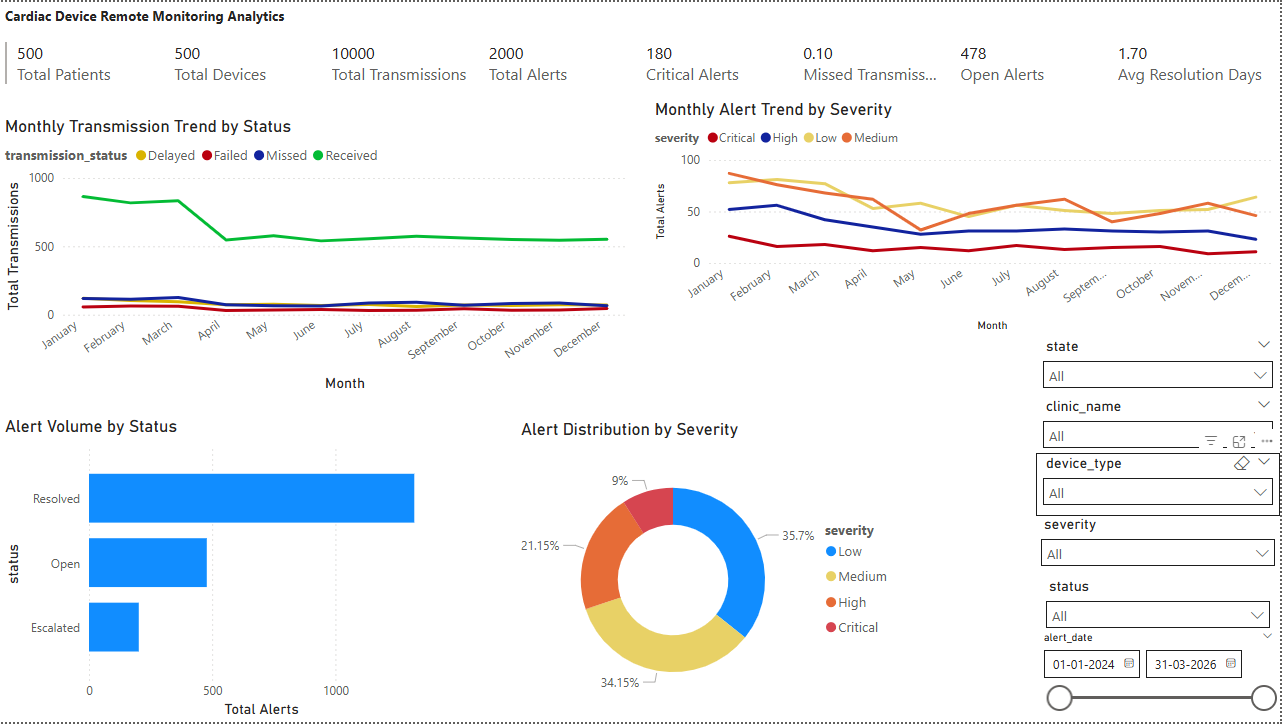

This screenshot's page, from the dashboard's own definition file:
{"tool":"powerbi","page":{"name":"executive_overview","canvas":[1280,720],"ordinal":0},"visuals":[{"type":"multiRowCard","fields":{"Values":["public appointments.Total Patients","public appointments.Total Devices","public appointments.Total Transmissions","public appointments.Total Alerts","public appointments.Critical Alerts","public appointments.Missed Transmission Rate","public appointments.Open Alerts","public appointments.Average Resolution Days"]},"box":[0,35,1280,62],"z":0},{"type":"lineChart","title":"Monthly Transmission Trend by Status","fields":{"Category":["public vw_transmission_summary.transmission_date.Variation.Date Hierarchy.Month"],"Y":["public appointments.Total Transmissions"],"Series":["public vw_transmission_summary.transmission_status"]},"box":[0,114,631,280],"z":1000},{"type":"lineChart","title":"Monthly Alert Trend by Severity","fields":{"Category":["public vw_alert_summary.alert_date.Variation.Date Hierarchy.Month"],"Y":["public appointments.Total Alerts"],"Series":["public vw_alert_summary.severity"]},"box":[650,97,630,237],"z":2000},{"type":"donutChart","title":"Alert Distribution by Severity","fields":{"Category":["public vw_alert_summary.severity"],"Y":["public appointments.Total Alerts"]},"box":[516,417,386,303],"z":3000},{"type":"barChart","title":"Alert Volume by Status","fields":{"Category":["public vw_alert_summary.status"],"Y":["public appointments.Total Alerts"]},"box":[0,414,452,306],"z":4000},{"type":"slicer","fields":{"Values":["public vw_alert_summary.state"]},"box":[1036,334,244,60],"z":5000},{"type":"slicer","fields":{"Values":["public vw_alert_summary.clinic_name"]},"box":[1036,394,244,57],"z":6000},{"type":"slicer","fields":{"Values":["public vw_alert_summary.device_type"]},"box":[1036,451,244,63],"z":7000},{"type":"slicer","fields":{"Values":["public vw_alert_summary.severity"]},"box":[1036,514,244,69],"z":8000},{"type":"slicer","fields":{"Values":["public vw_alert_summary.status"]},"box":[1036,571,244,58],"z":9000},{"type":"slicer","fields":{"Values":["public vw_alert_summary.alert_date"]},"box":[1036,629,244,91],"z":10000},{"type":"textbox","box":[0,0,300,35],"z":11000}]}

Visuals, with their boxes in screenshot pixels (x1, y1, x2, y2), scaled from the page's 1280x720 canvas onto the 1283x724 screenshot:
multiRowCard - public appointments.Total Patients x public appointments.Total Devices: (0,35,1282,98)
"Monthly Transmission Trend by Status" lineChart: (0,115,632,396)
"Monthly Alert Trend by Severity" lineChart: (652,98,1282,336)
"Alert Distribution by Severity" donutChart: (517,419,904,723)
"Alert Volume by Status" barChart: (0,416,453,723)
slicer - public vw_alert_summary.state: (1038,336,1282,396)
slicer - public vw_alert_summary.clinic_name: (1038,396,1282,454)
slicer - public vw_alert_summary.device_type: (1038,454,1282,517)
slicer - public vw_alert_summary.severity: (1038,517,1282,586)
slicer - public vw_alert_summary.status: (1038,574,1282,632)
slicer - public vw_alert_summary.alert_date: (1038,632,1282,723)
textbox: (0,0,301,35)
